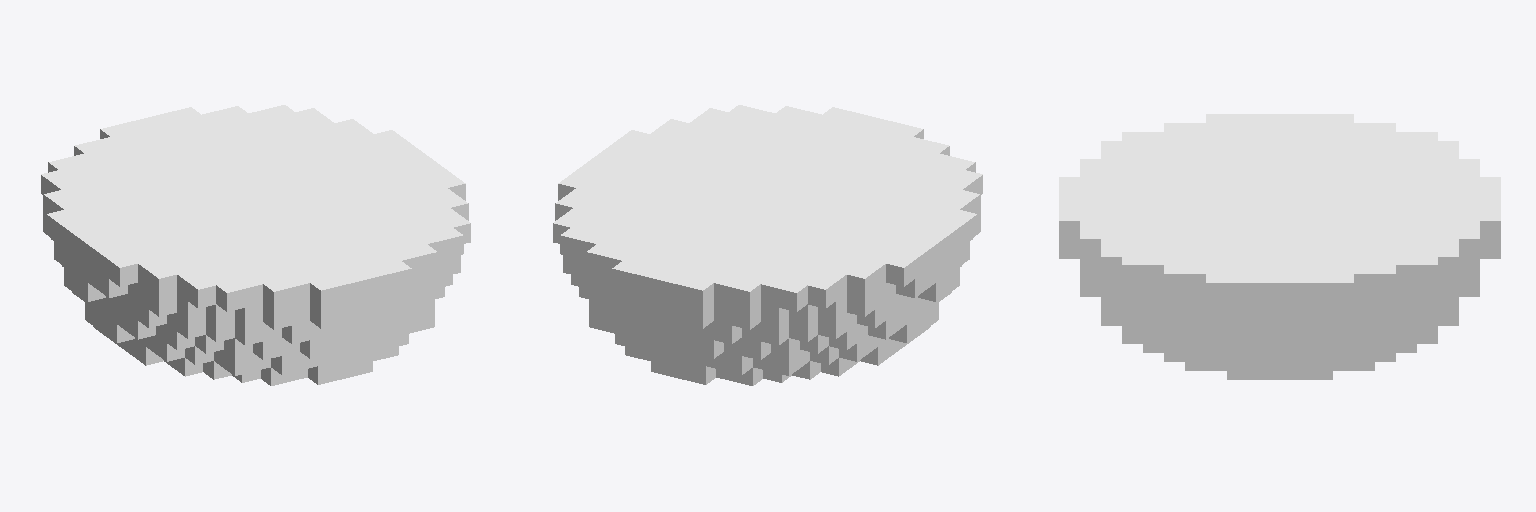
File: character_burgerbottom.obj
3 renders of one model, left to right at view 1: azimuth 30°, elevation 25°; view 2: azimuth 150°, elevation 25°; view 3: azimuth 270°, elevation 25°, orthographic.
Bounding box in the file's own units: 19 × 6 × 21.